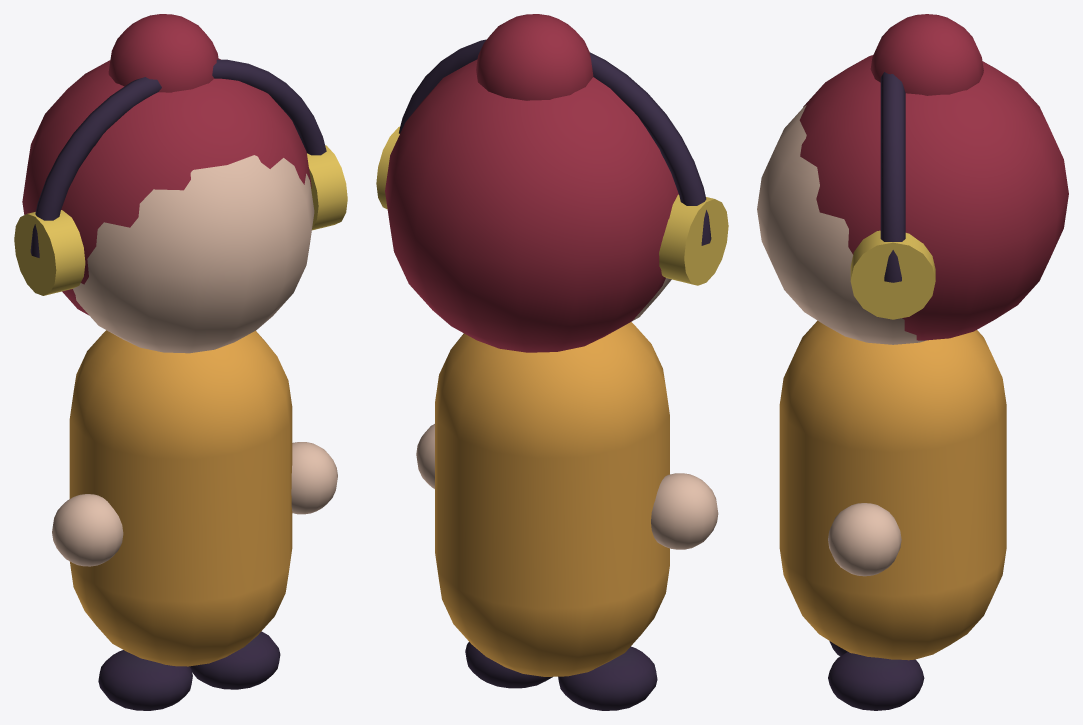
Rendered from human-bun.glb.
3 views of the same model, side by side, from view 1: azimuth 30°, elevation 25°; view 2: azimuth 150°, elevation 25°; view 3: azimuth 270°, elevation 25° (orthographic). The views are drawn at different scales.
Visible parts, largest first — view 1: humanBun; view 2: humanBun; view 3: humanBun.
Part boxes in pixels (x1,y1,x2,y2): humanBun: (14,14,347,710); humanBun: (376,14,728,710); humanBun: (757,14,1068,710).
Size of the model in its own units: 0.614 by 1.29 by 0.5501.
